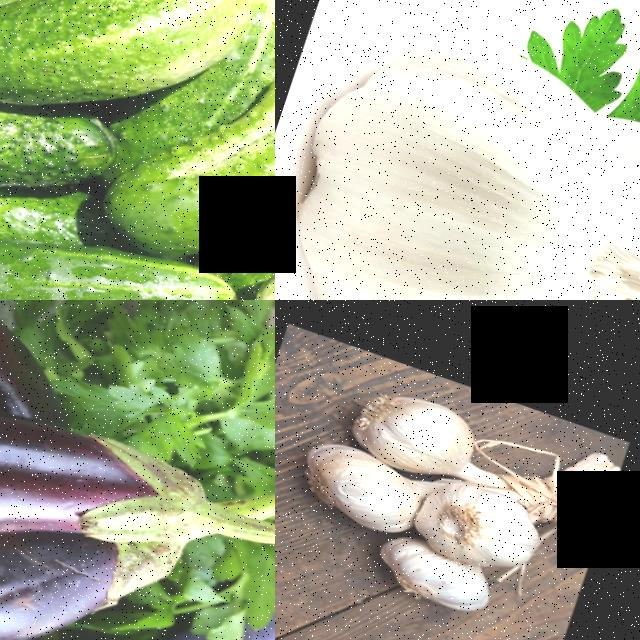cucumber: (0, 0, 265, 167), (99, 56, 275, 295), (0, 180, 245, 300), (0, 72, 123, 232)
eggplant: (0, 324, 215, 640), (0, 300, 91, 422)
garlic: (275, 0, 640, 300), (408, 465, 555, 581), (343, 375, 490, 489), (291, 433, 424, 537), (372, 532, 505, 622)
